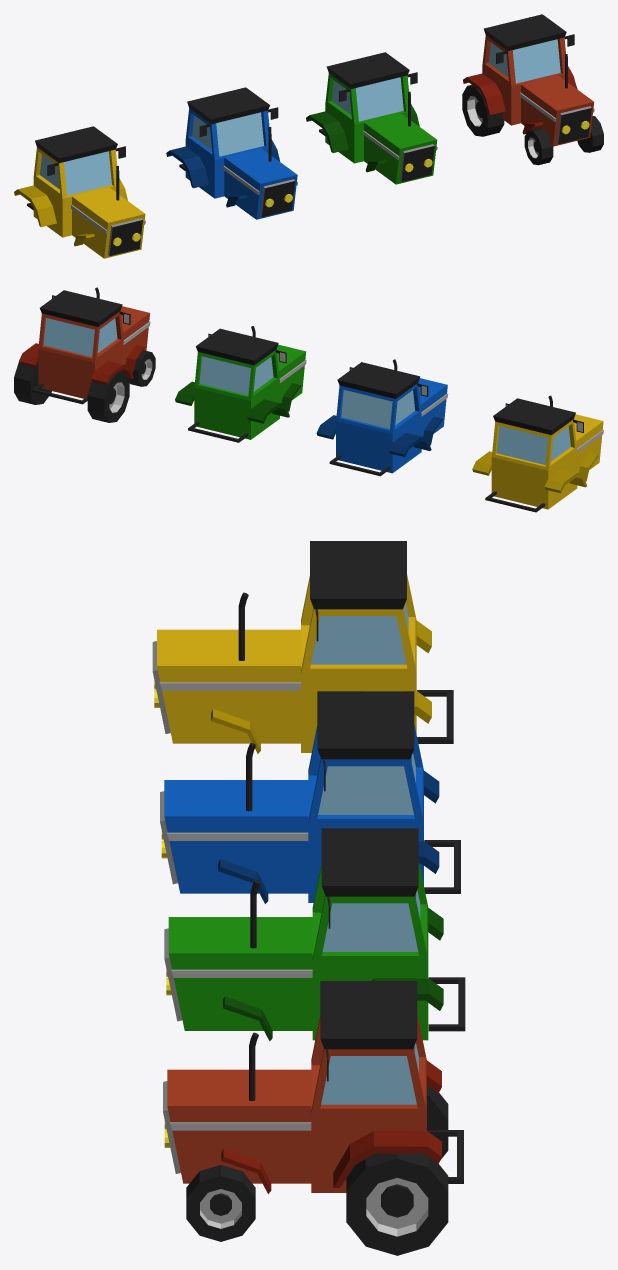
Rendered from low-poly-tractor.gltf.
The picture shows the model from 3 angles, top to bottom: view 1: azimuth 30°, elevation 25°; view 2: azimuth 150°, elevation 25°; view 3: azimuth 270°, elevation 25°; orthographic projection. The views are drawn at different scales.
Parts seen in each view (by area): view 1: blue-chassis, yellow-chassis, green-chassis.001, red-chassis, back-right-tire, front-right-tire, front-left-tire; view 2: yellow-chassis, green-chassis.001, blue-chassis, red-chassis, back-right-tire, back-left-tire, front-right-tire; view 3: red-chassis, green-chassis.001, yellow-chassis, blue-chassis, back-left-tire, front-left-tire, back-right-tire.
Boxes of the visible parts, box(x1,y1,x2,y2) form: blue-chassis: box(166, 87, 297, 219); yellow-chassis: box(14, 126, 145, 258); green-chassis.001: box(306, 52, 437, 184); red-chassis: box(463, 14, 594, 146); back-right-tire: box(462, 84, 504, 136); front-right-tire: box(524, 128, 553, 165); front-left-tire: box(577, 116, 603, 152); yellow-chassis: box(472, 395, 603, 512); green-chassis.001: box(175, 326, 306, 442); blue-chassis: box(316, 359, 448, 476); red-chassis: box(19, 287, 150, 404); back-right-tire: box(87, 371, 129, 422); back-left-tire: box(14, 362, 51, 404); front-right-tire: box(128, 350, 155, 386); red-chassis: box(163, 981, 463, 1193); green-chassis.001: box(164, 828, 465, 1041); yellow-chassis: box(152, 541, 453, 753); blue-chassis: box(160, 691, 460, 903); back-left-tire: box(346, 1153, 448, 1255); front-left-tire: box(186, 1165, 255, 1241); back-right-tire: box(427, 1085, 448, 1159).
Bounding box in the file's own units: 26.76 × 4.72 × 6.69.
Materials: 1 (1 with a texture image).
